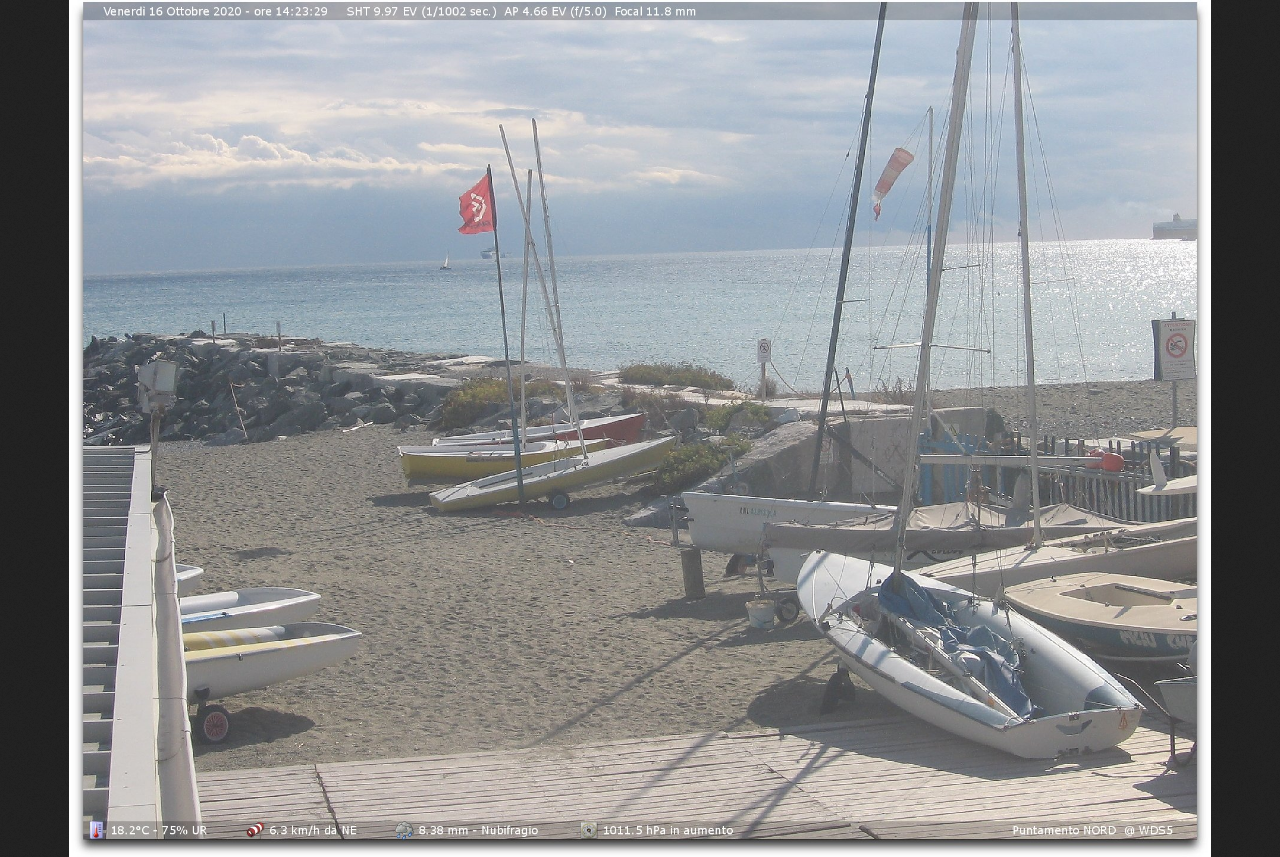maybe: (448, 162, 503, 240)
